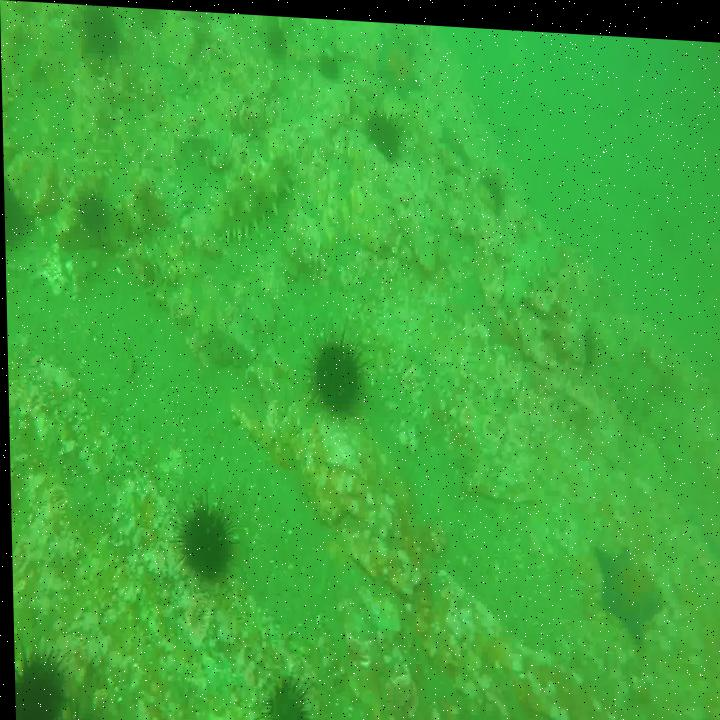echinus: (177, 499, 231, 582), (311, 330, 362, 416), (12, 653, 68, 720), (75, 9, 122, 64), (260, 670, 309, 720), (363, 106, 401, 163), (74, 186, 110, 235), (264, 20, 292, 68)
holothurian: (215, 148, 295, 244)
starfish: (594, 534, 659, 630), (374, 30, 425, 96)
